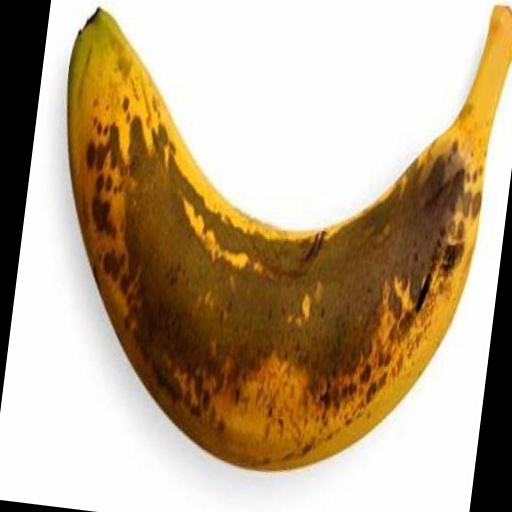fruit: (68, 7, 512, 468)
